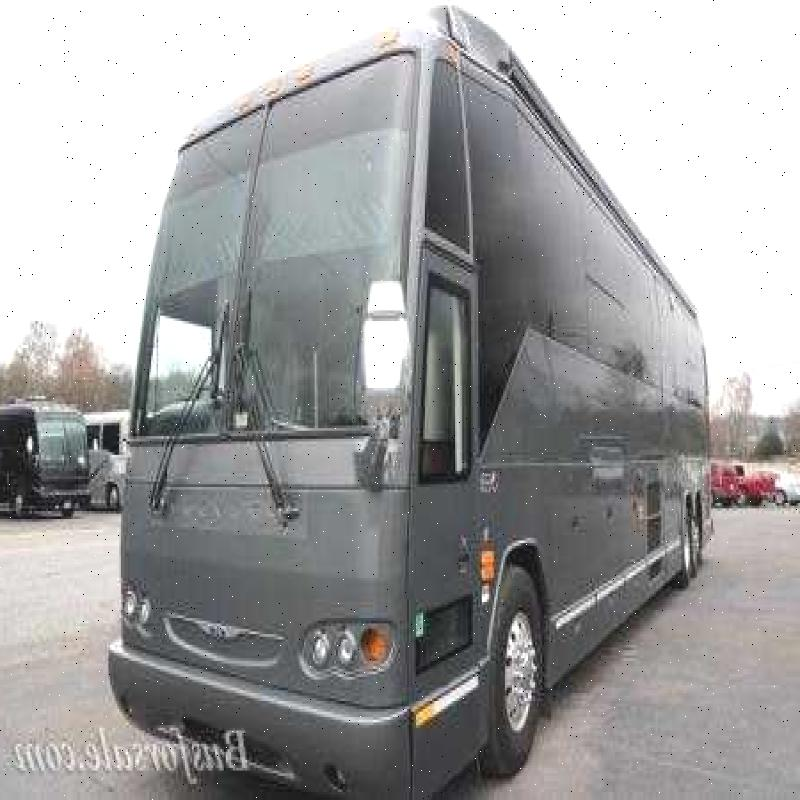bus: (108, 9, 743, 791)
